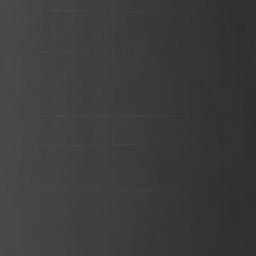Waist folding: (33, 9, 199, 15), (40, 46, 139, 55), (41, 188, 179, 194), (36, 142, 168, 148), (41, 114, 182, 119)
